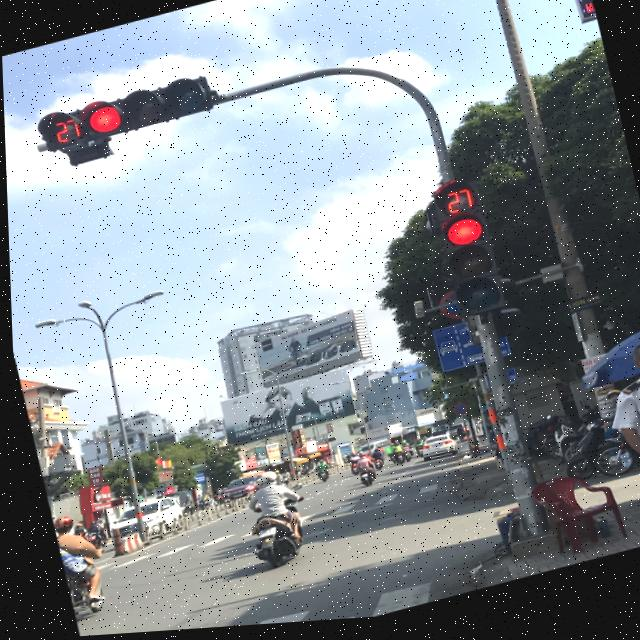Red: (66, 71, 221, 149), (422, 211, 508, 328)
